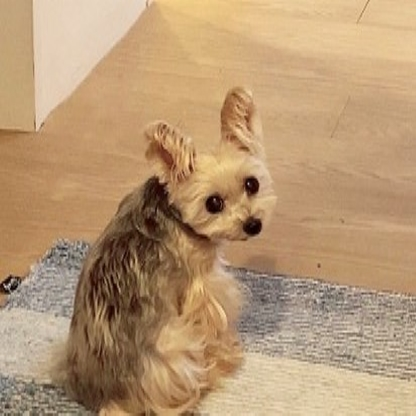yorkshire: (40, 85, 277, 413)
